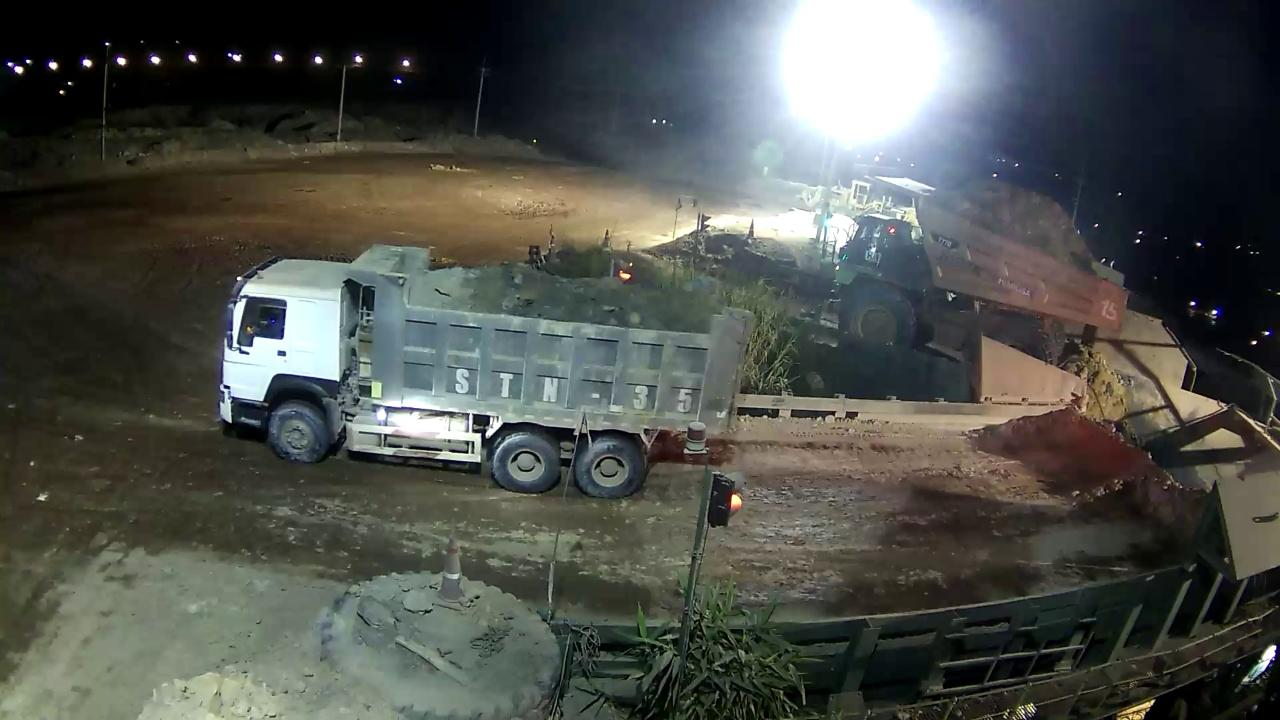full_load: (950, 172, 1106, 242)
mining_truck: (831, 163, 1141, 399)
tail_number: (1098, 296, 1124, 327)
truck_size: (924, 228, 962, 254)
